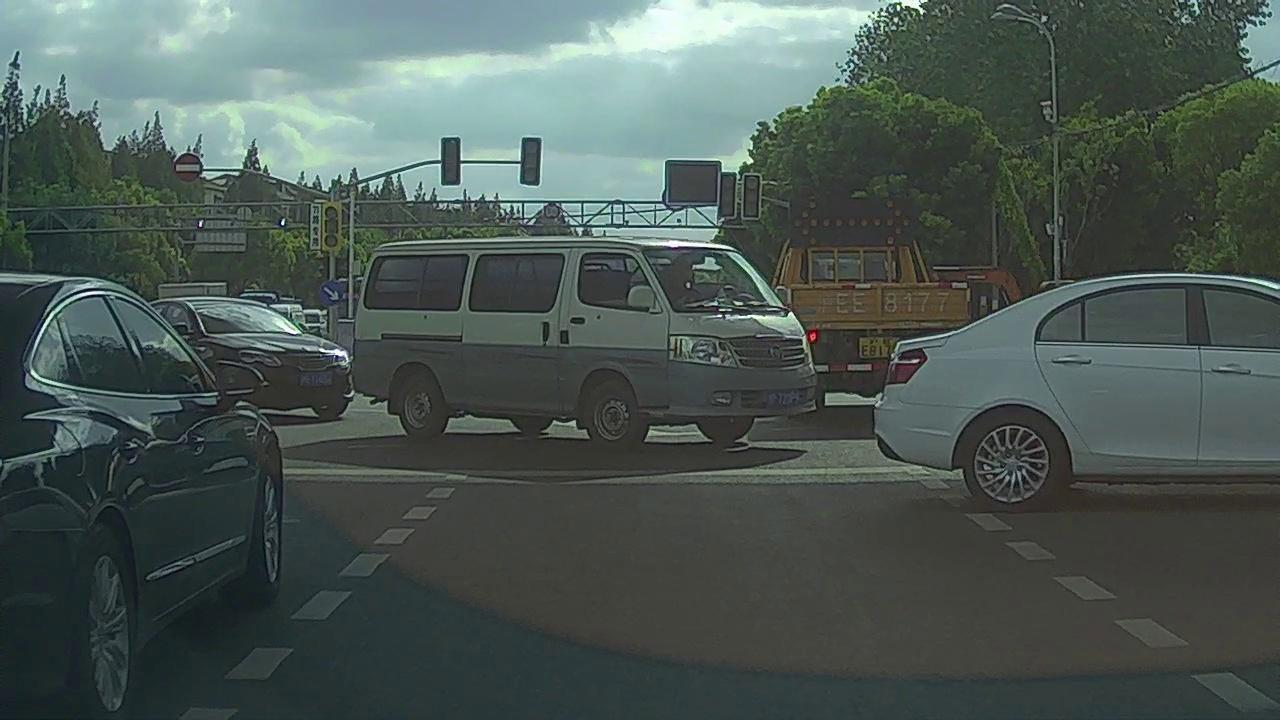traffic_light: (441, 136, 459, 185), (522, 139, 539, 185), (744, 175, 759, 220), (720, 172, 734, 217)
